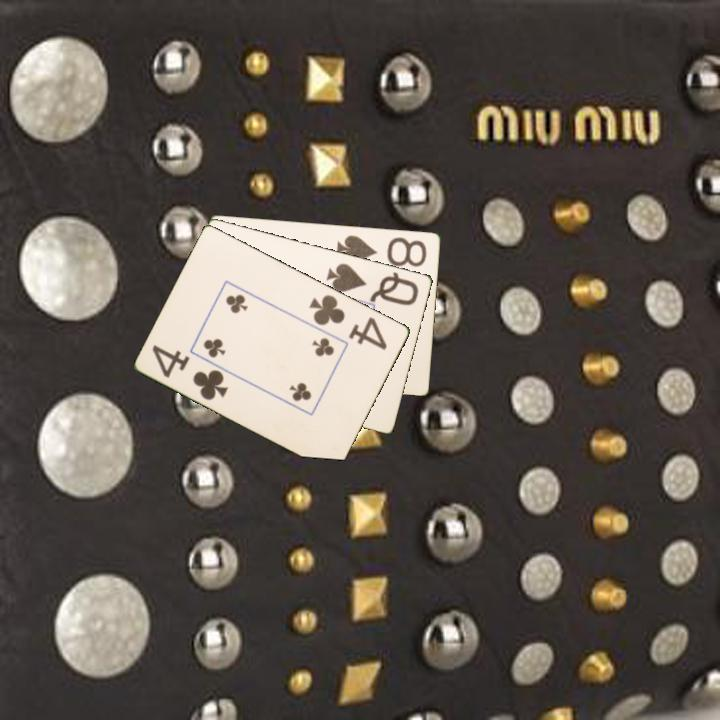4c: (306, 291, 390, 353), (149, 341, 232, 403)
8s: (333, 231, 430, 270)
Qs: (324, 259, 422, 308)
